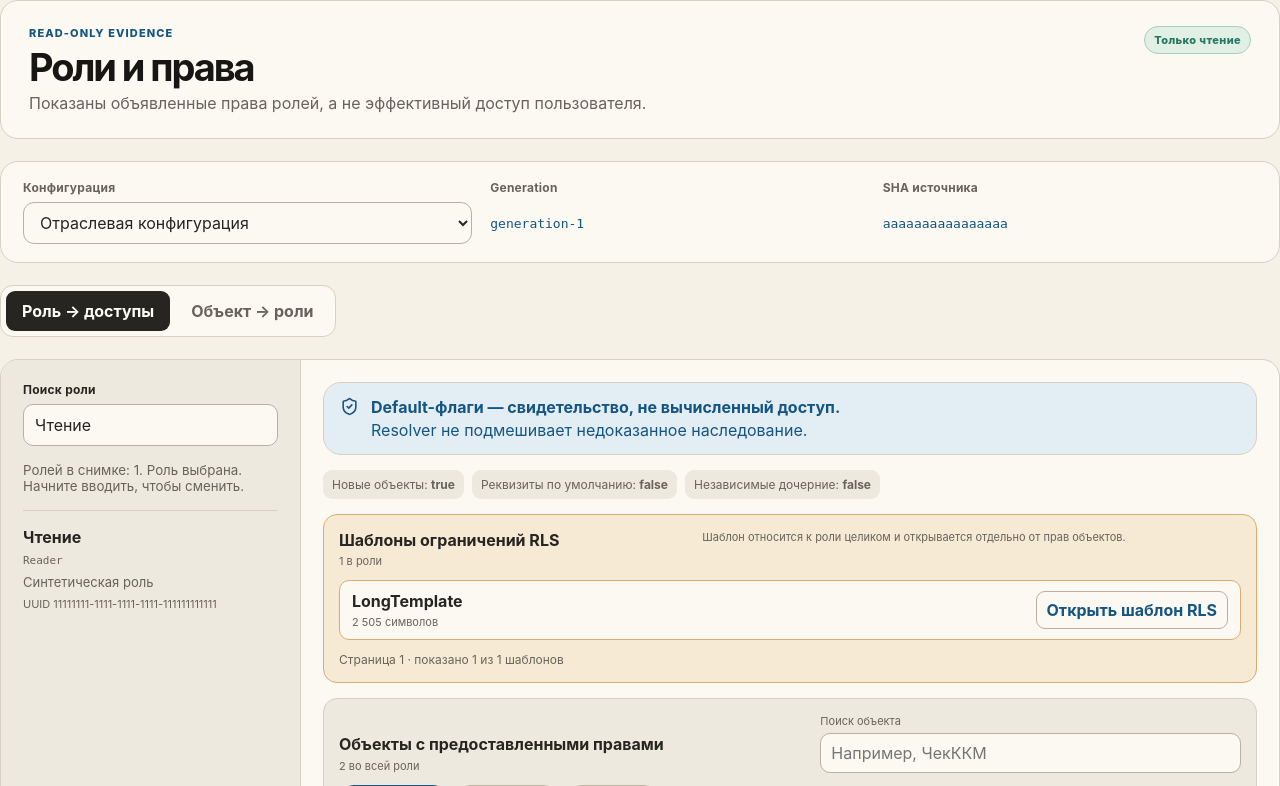
Test: показывает шаблоны RLS роли и открывает длинный шаблон с его контекстом
expect the text "Шаблоны ограничений RLS" is shown: met, box [339,530,559,550]
expect the text "LongTemplate" is shown: met, box [352,591,463,611]
Click the button with aria-label "Открыть шаблон RLS LongTemplate" at (1132, 610), box [1036,591,1228,629]
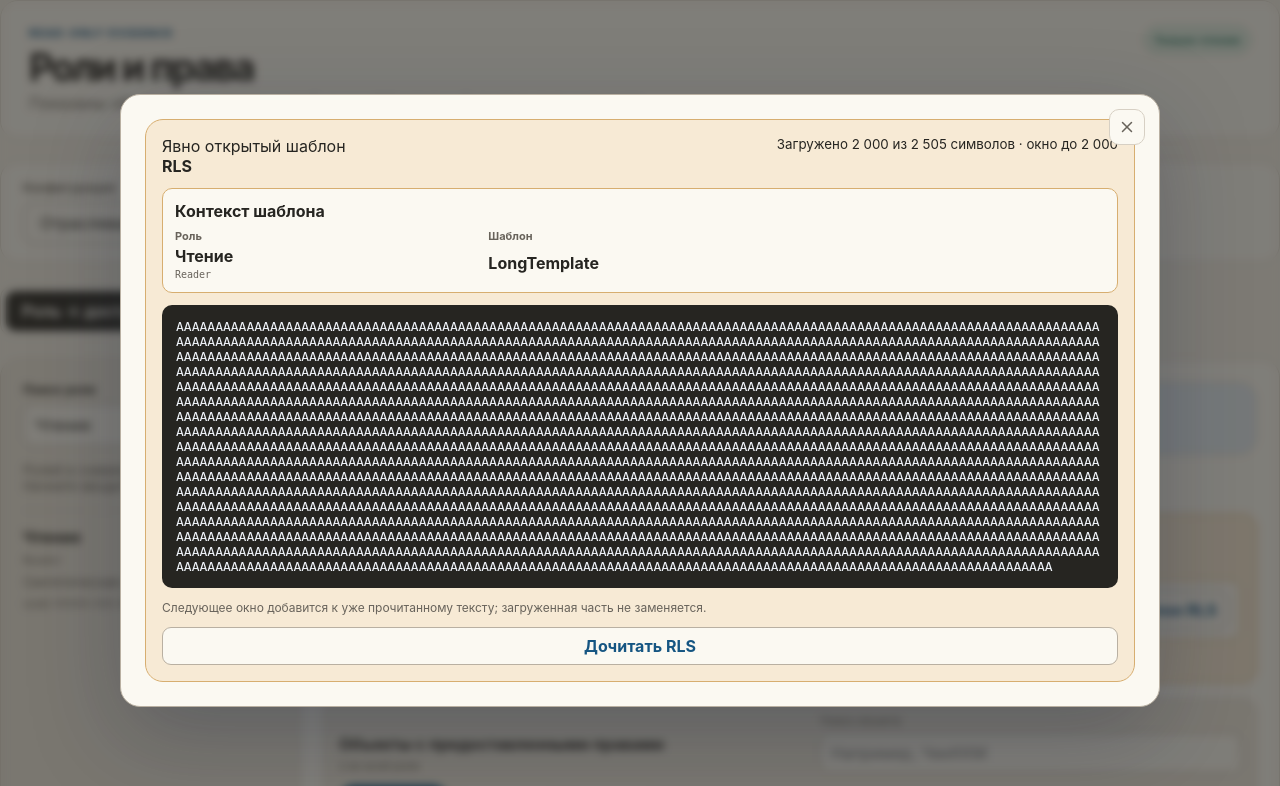
expect the text "Контекст шаблона" is shown: met, box [175,200,325,220]
expect the dialog shows "LongTemplate": met, box [488,252,599,272]
expect the button "Дочитать RLS" is shown: met, box [162,626,1118,664]
